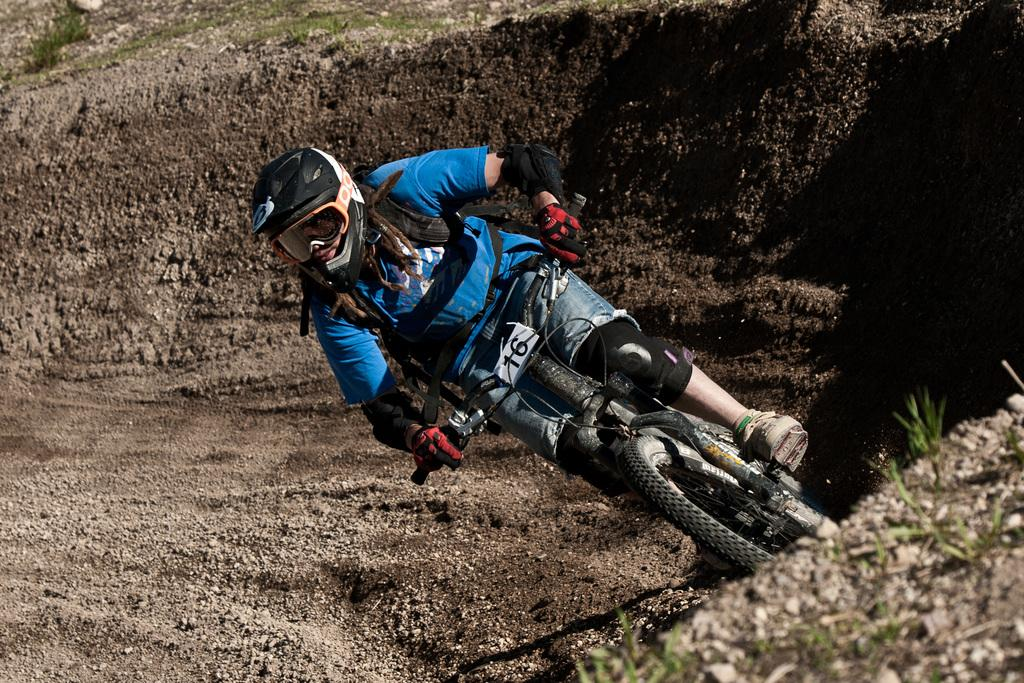helmet: (251, 147, 367, 294)
